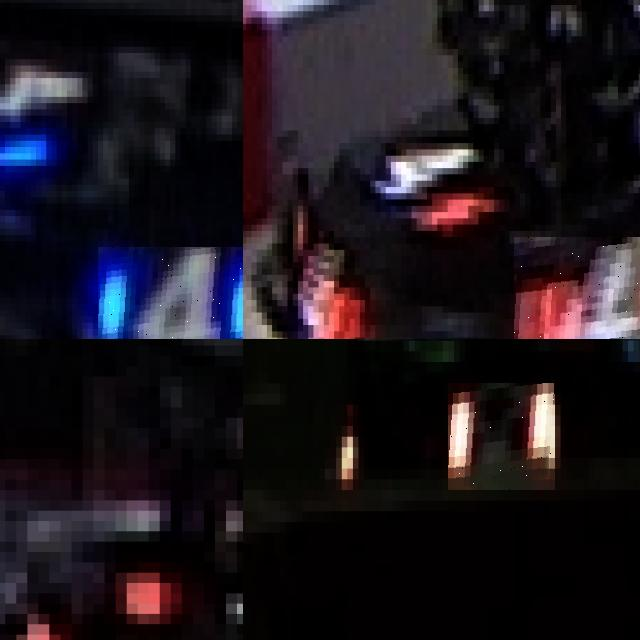B4: (97, 247, 243, 339)
R4: (514, 237, 640, 339)
Rs: (448, 383, 555, 490)
